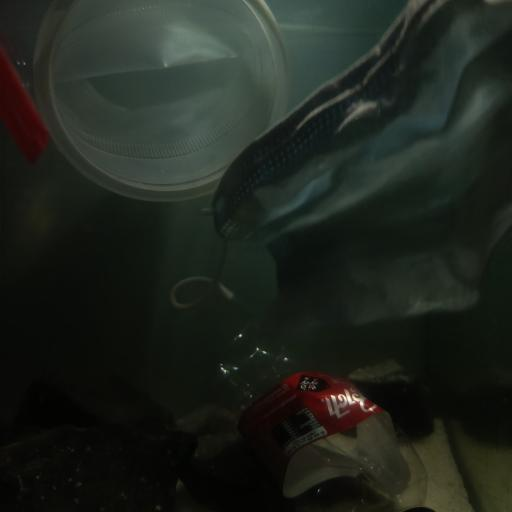mask: (172, 0, 510, 324)
plastic_bottle: (205, 325, 427, 512)
plastic_cup: (33, 0, 296, 210)
plastic_straw: (0, 52, 49, 165)
